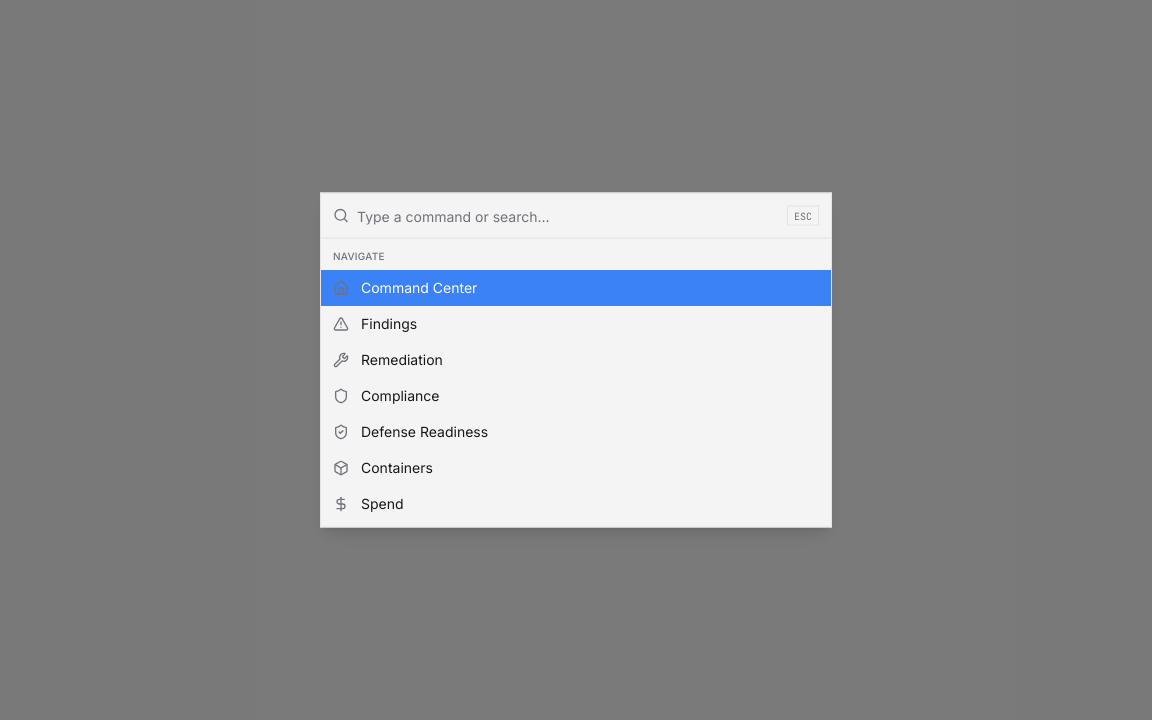
it: CommandPalette › filters items on query input
Type "find" into the field with placeholder "Type a command or search..." at (568, 216), box [357,194,779,238]
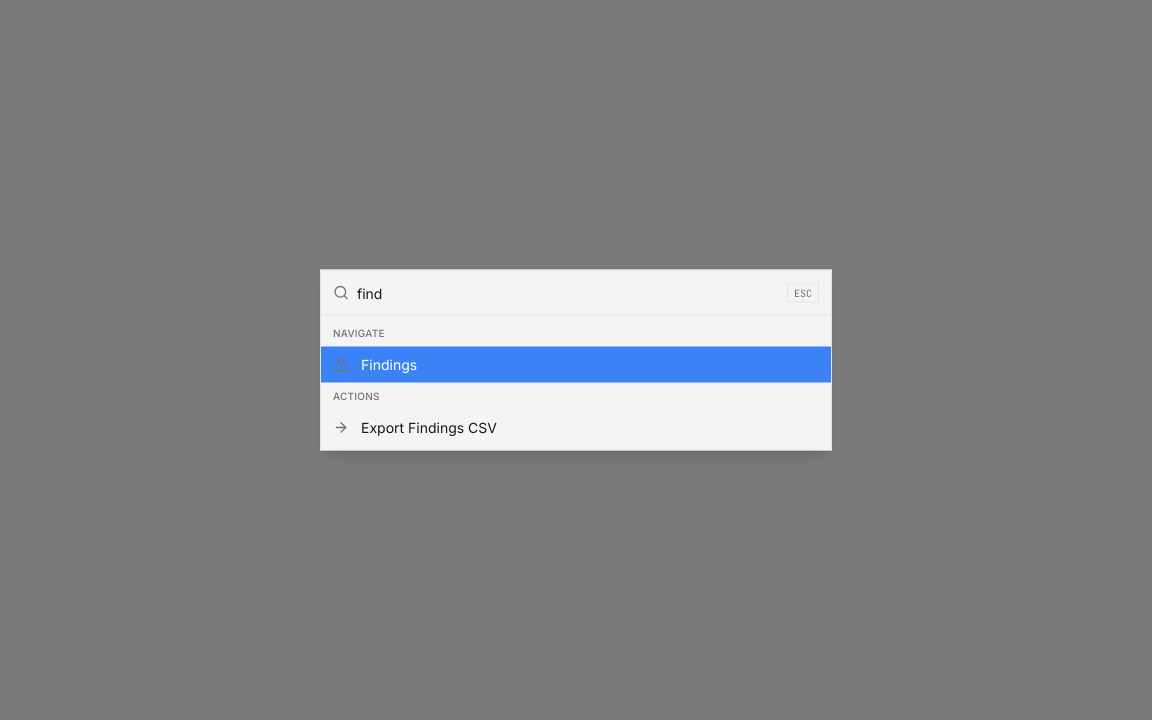
Check: the text "Findings" is shown, box [361,354,417,374]
Check: the button "Compliance" is gone
